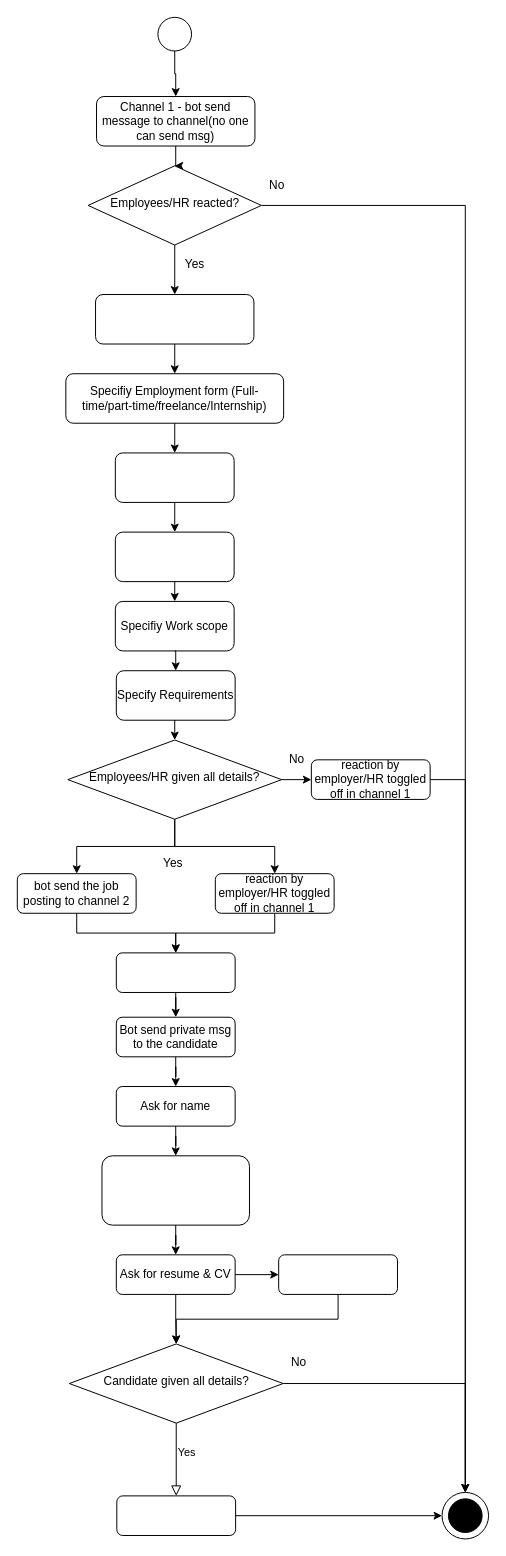
Image size: 506x1556. Some labels were removed from this diagram. The shapes that lost their labels are listed below. From the top down, each one's centre as x and y in pixels, then its label:
At (x=174, y=319): "bot sends private msg to employer/HR".
At (x=174, y=477): "Specify Salary Range".
At (x=174, y=556): "Specify Location (Remote/Country)".
At (x=175, y=972): "candidate react the msg in channel 2 with specific emoji".
At (x=175, y=1190): "Ask for relevant links/socials (LinkedIn, Email, GitHub)".
At (x=337, y=1274): "Additonal message".
At (x=176, y=1515): "Bot send candidate info to employers/HR".
